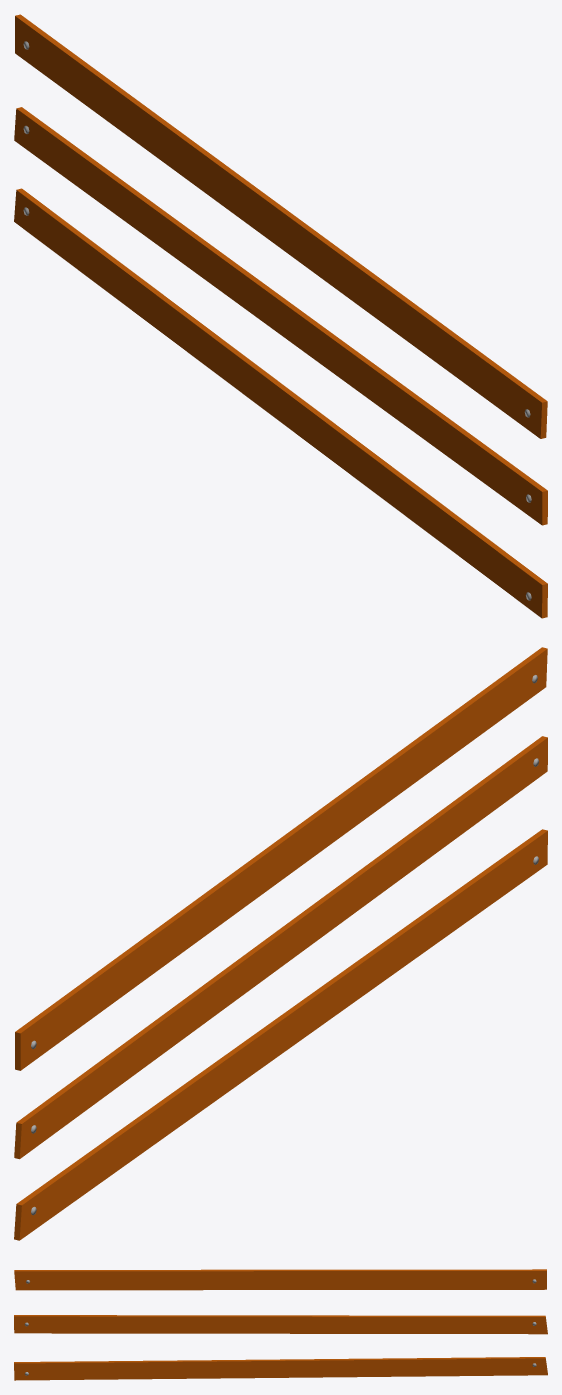
Rendered from FenceConnector3.fbx.
The picture shows the model from 3 angles, top to bottom: view 1: azimuth 30°, elevation 25°; view 2: azimuth 150°, elevation 25°; view 3: azimuth 270°, elevation 25°; orthographic projection. The views are drawn at different scales.
Visible parts, largest first — view 1: ConnectorPlanks3; view 2: ConnectorPlanks3; view 3: ConnectorPlanks3.
Part boxes in pixels (x1,y1,x2,y2): ConnectorPlanks3: (14, 14, 547, 618); ConnectorPlanks3: (14, 647, 547, 1240); ConnectorPlanks3: (14, 1269, 547, 1380).
Size of the model in its own units: 11.31 by 274 by 1211.
